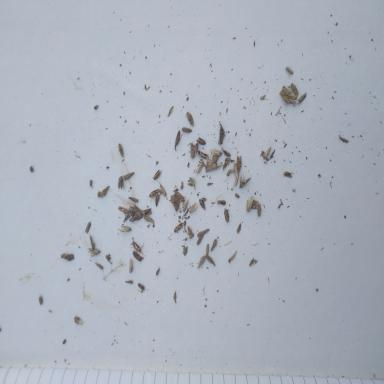pbw: (148, 188, 162, 202), (129, 241, 144, 254), (239, 174, 251, 188), (158, 180, 167, 197), (175, 130, 184, 146), (198, 149, 211, 160), (193, 161, 204, 174), (88, 247, 102, 257), (196, 255, 206, 269), (280, 90, 290, 104), (170, 195, 178, 212), (100, 186, 112, 197), (174, 222, 185, 233), (93, 262, 104, 273), (174, 191, 185, 202), (132, 250, 142, 262), (186, 112, 194, 127), (232, 173, 240, 188), (88, 233, 95, 250), (209, 148, 222, 157), (263, 146, 271, 160), (60, 254, 74, 262), (208, 156, 219, 166), (198, 228, 210, 237), (247, 198, 259, 207), (130, 205, 142, 214), (298, 92, 307, 104), (187, 225, 194, 240), (290, 83, 298, 96), (221, 147, 231, 157), (152, 170, 162, 180), (189, 202, 198, 213), (117, 176, 124, 190), (246, 198, 253, 212), (117, 225, 131, 232), (118, 142, 124, 158), (286, 66, 294, 78), (208, 255, 216, 267), (211, 163, 223, 171), (210, 239, 217, 252), (182, 199, 189, 212), (289, 98, 302, 105), (129, 212, 138, 222), (124, 172, 134, 181), (206, 163, 215, 172), (339, 135, 349, 143), (196, 235, 204, 245), (144, 216, 154, 224), (196, 137, 206, 145), (118, 207, 129, 214), (199, 199, 206, 210), (224, 208, 229, 223), (234, 162, 238, 180), (85, 222, 91, 234), (237, 156, 242, 170), (257, 203, 262, 217), (190, 141, 194, 158), (155, 194, 160, 207), (283, 171, 292, 178), (142, 208, 151, 215), (282, 86, 288, 96), (182, 127, 192, 133), (128, 196, 138, 202), (194, 143, 198, 157), (130, 258, 134, 272), (237, 223, 242, 233), (217, 200, 226, 205), (138, 283, 144, 290), (184, 246, 188, 256), (206, 244, 209, 256), (156, 268, 160, 276), (125, 280, 133, 284)
